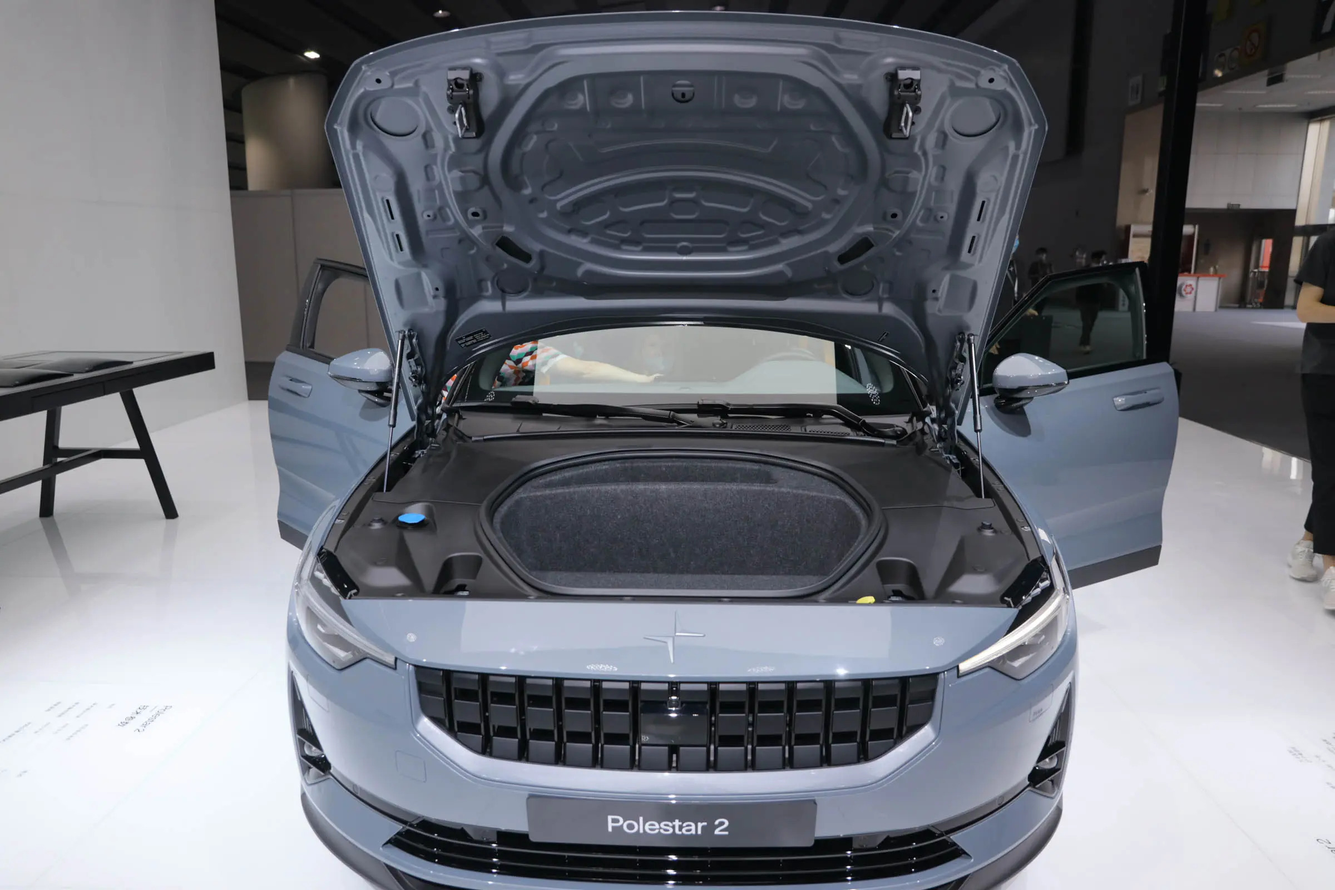Polestar: (644, 611, 705, 664)
